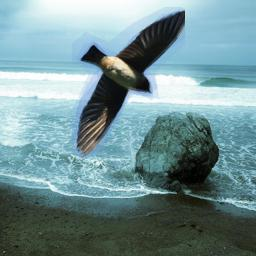Swallow: (72, 7, 185, 158)
